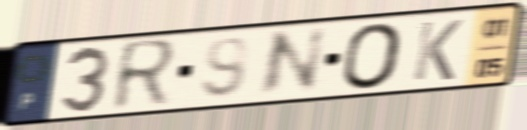3: (58, 43, 113, 116)
9: (199, 35, 252, 101)
K: (409, 17, 466, 84)
N: (254, 24, 330, 102)
O: (340, 20, 406, 92)
R: (108, 35, 182, 115)
